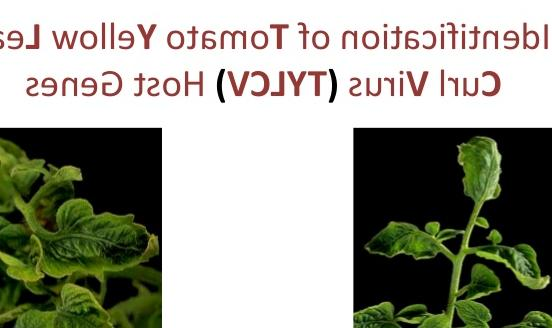Tomato leaf yellow virus: (38, 199, 153, 275), (20, 285, 135, 328), (457, 127, 506, 211), (359, 213, 448, 259), (476, 237, 552, 290)
